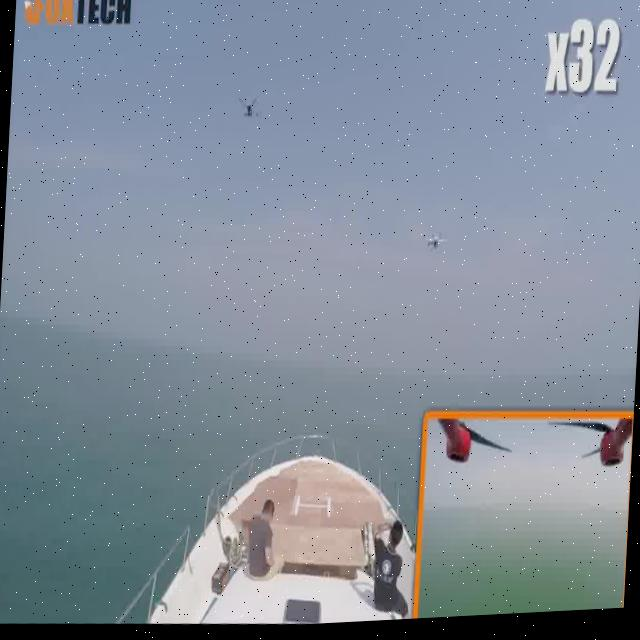drone: (233, 90, 267, 131), (421, 222, 448, 264)
